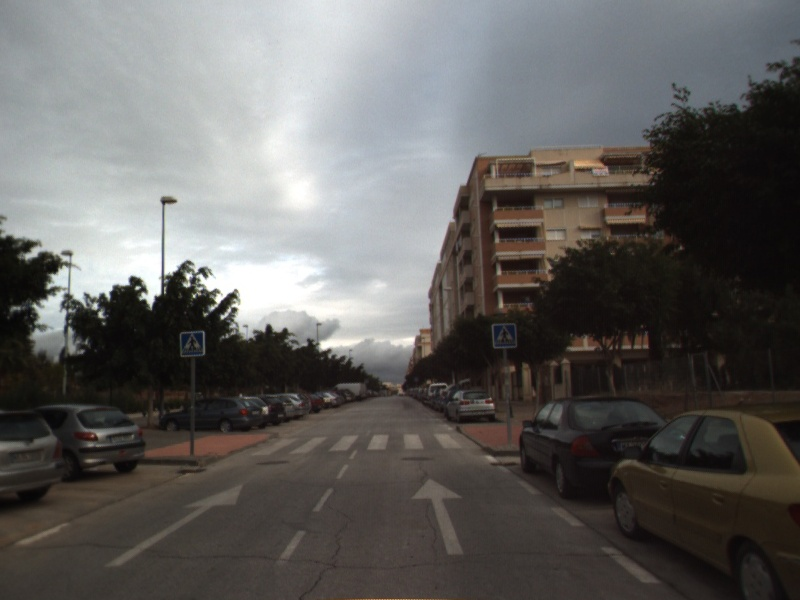STRAIGHT: (103, 482, 245, 569), (408, 476, 466, 557)
